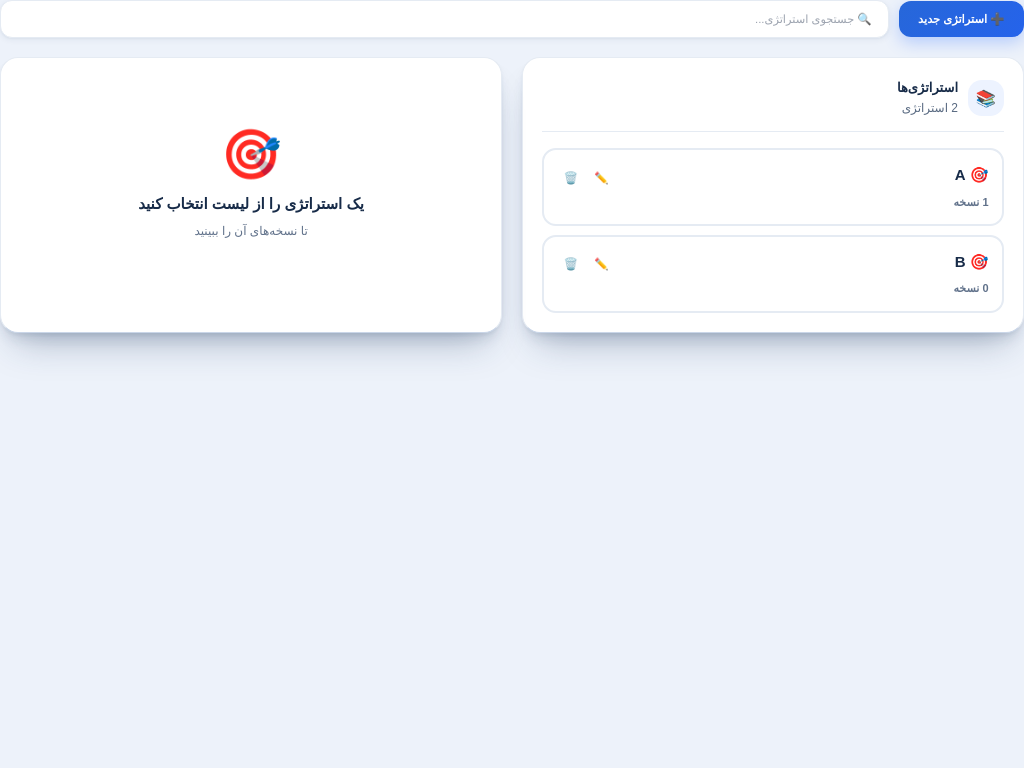
it: StrategyPage Stage 5 request ownership and version CRUD › chart refresh failure clears chart data and exposes an alert
Click the element showing "🎯 A 1 نسخه ✏️ 🗑️" at [773, 187], box left=542, top=148, right=1004, bottom=226
(page scrolled)
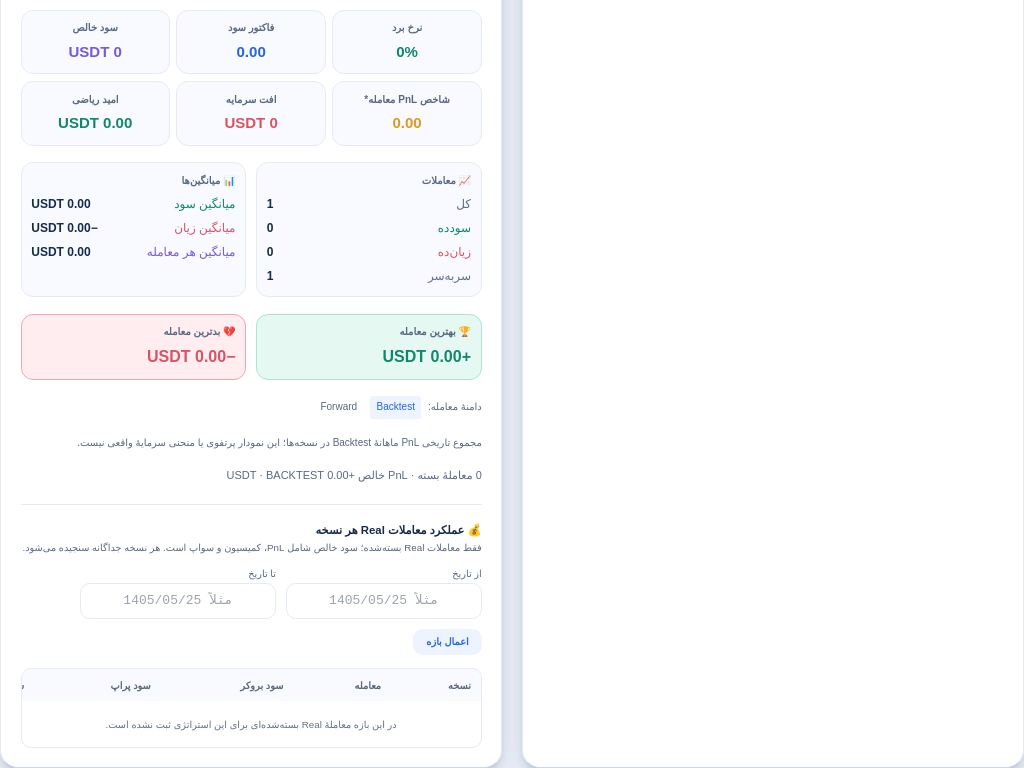
Click the button "Forward" at [339, 407], box left=314, top=396, right=364, bottom=419
(page scrolled)
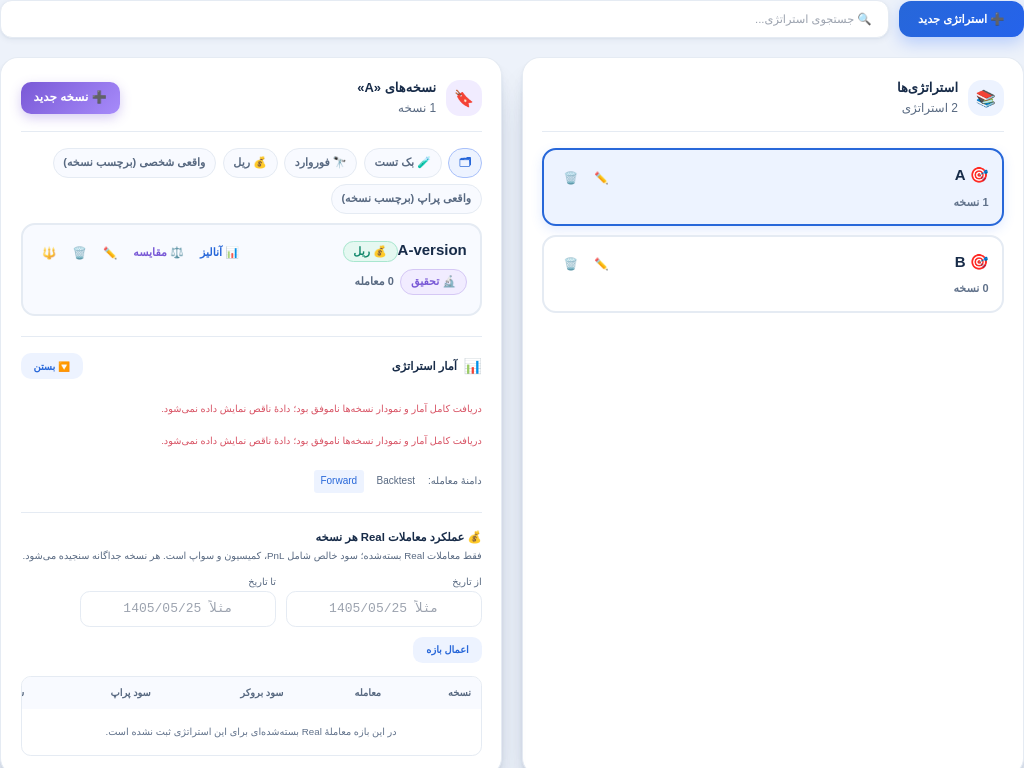
Check: the 1st message "دریافت کامل آمار و نمودار نسخه‌ها ناموفق بود؛ دادهٔ ناقص نمایش داده نمی‌شود." is shown, box left=161, top=403, right=482, bottom=414
Check: the text "0 معاملهٔ بسته" is gone
